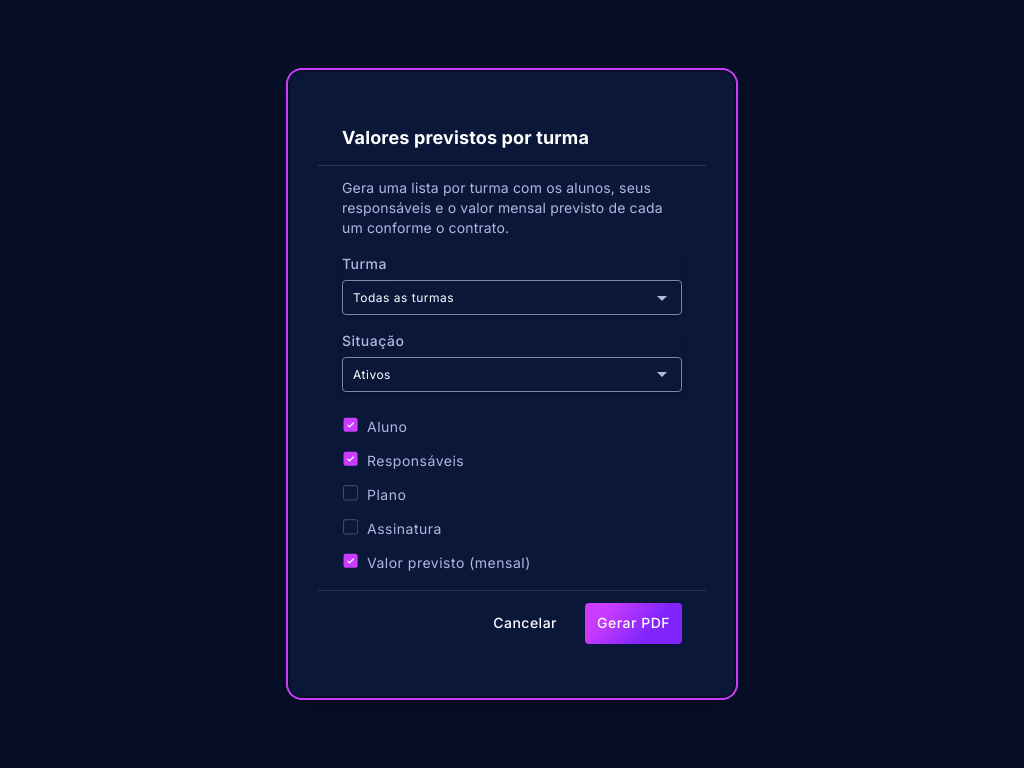
Test: ExpectedPaymentsReportDialog › warns that totals need the amount column
Click the checkbox labelled "Valor previsto (mensal)" at [436, 562], box [342,553,531,570]
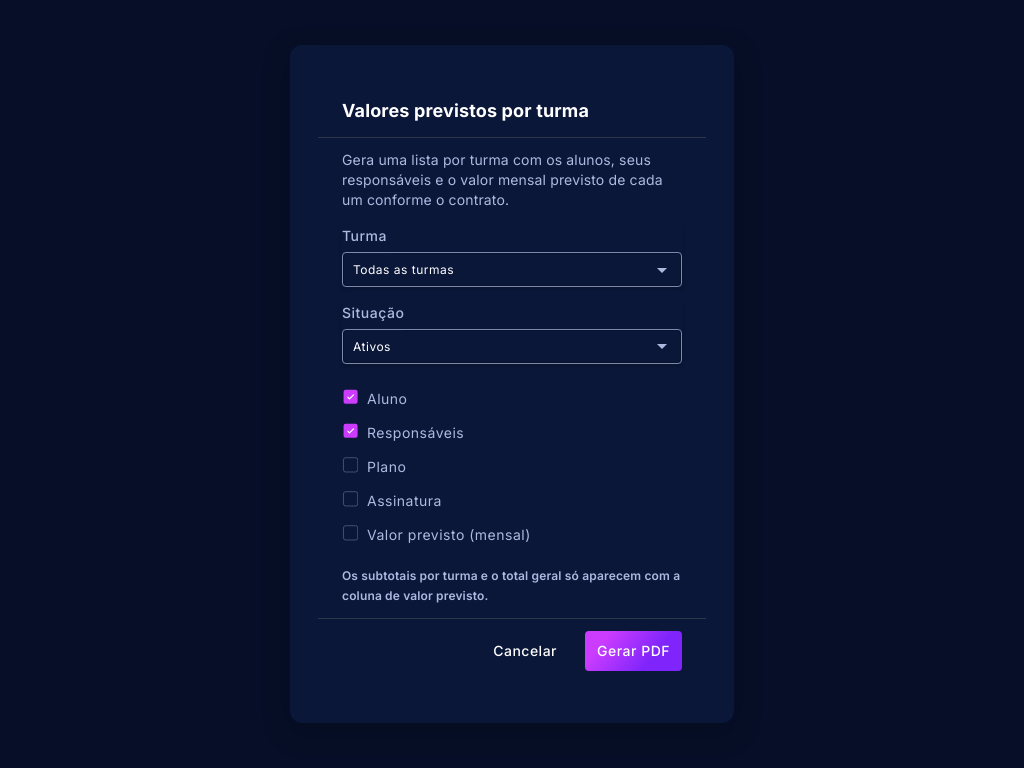
Expected: the text "só aparecem com a coluna de valor previsto" is shown, [342,568,680,603]
